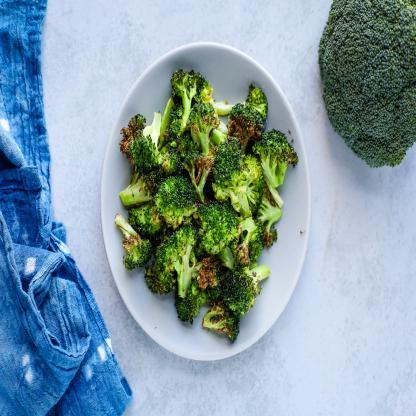broccoli: (116, 67, 299, 344)
